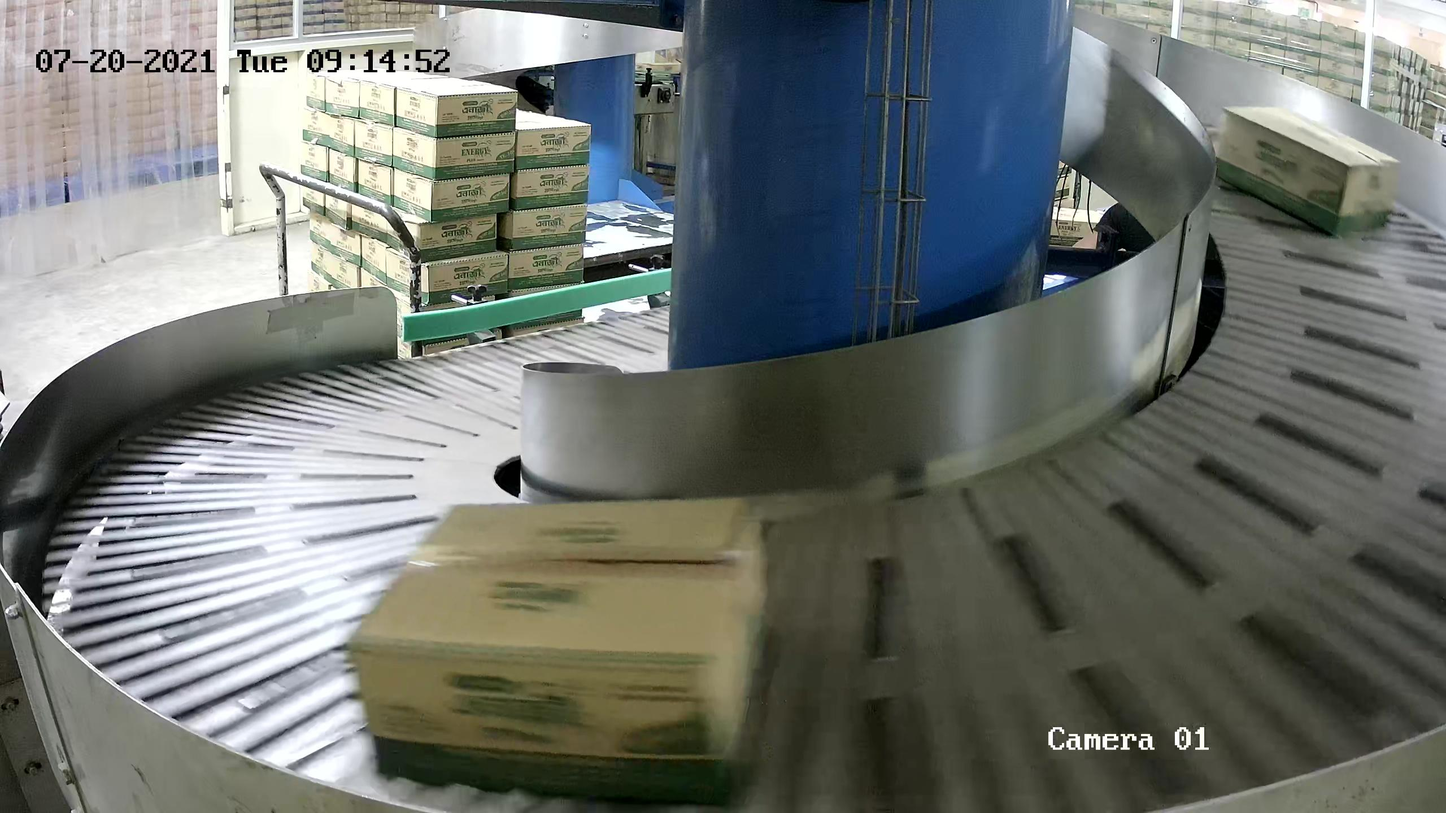Box: (344, 492, 768, 812), (1216, 104, 1402, 237)
